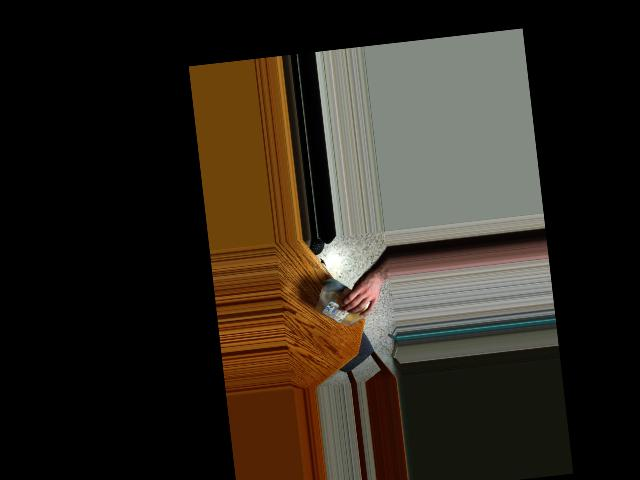cheese: (311, 280, 375, 332)
